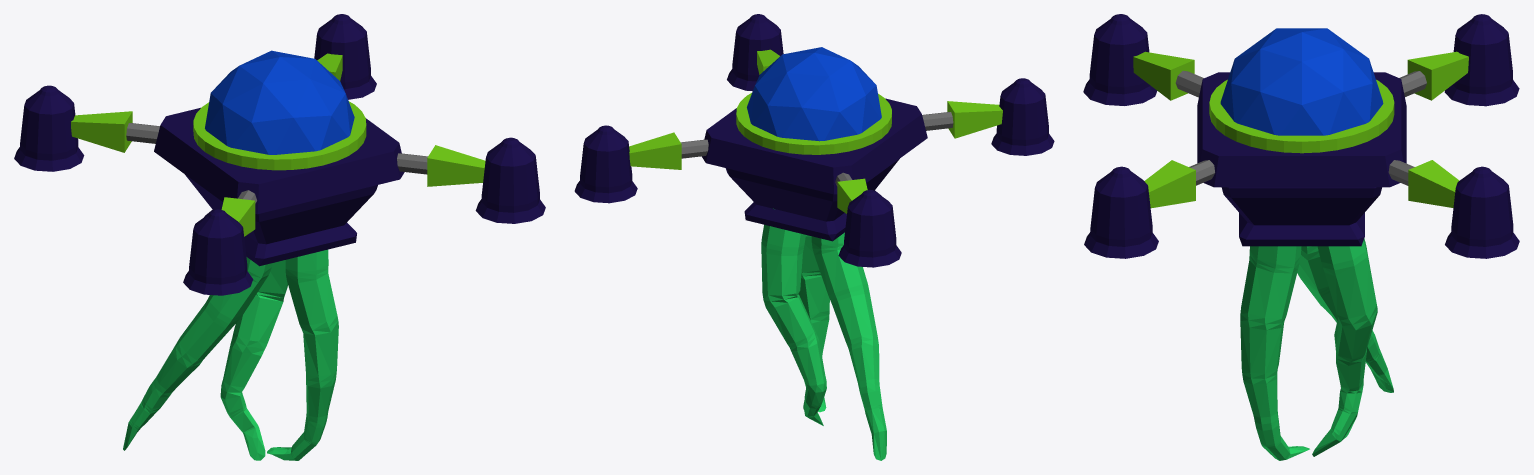
The model's file is jellyfishBoss_14.obj.
The picture shows the model from 3 angles, left to right: view 1: azimuth 30°, elevation 25°; view 2: azimuth 150°, elevation 25°; view 3: azimuth 270°, elevation 25°; orthographic projection. The views are drawn at different scales.
Parts seen in each view (by area): view 1: Base_Cube.001, Head_Icosphere, Cylinder.002_Cylinder.001, Cylinder.003_Cylinder.002, Cylinder.001_Cylinder.012, Rocket_1_Cylinder.003, Rocket_2_Cylinder.014, Rocket_3_Cylinder.016, Cylinder, Rocket_4_Cylinder.018, B_Arm_1_Cube.002, B_Arm_3_Cube.011 (+3 smaller); view 2: Base_Cube.001, Head_Icosphere, Cylinder.003_Cylinder.002, Cylinder.001_Cylinder.012, Rocket_3_Cylinder.016, Rocket_4_Cylinder.018, Rocket_2_Cylinder.014, Cylinder, Rocket_1_Cylinder.003, Cylinder.002_Cylinder.001, B_Arm_4_Cube.012, B_Arm_2_Cube.010 (+2 smaller); view 3: Base_Cube.001, Head_Icosphere, Cylinder.002_Cylinder.001, Cylinder.001_Cylinder.012, Rocket_1_Cylinder.003, Rocket_4_Cylinder.018, Rocket_3_Cylinder.016, Rocket_2_Cylinder.014, Cylinder, Cylinder.003_Cylinder.002, B_Arm_2_Cube.010, B_Arm_3_Cube.011 (+4 smaller).
Boxes of the visible parts, left/top/right/bottom form: Base_Cube.001: left=154, top=107, right=404, bottom=266; Head_Icosphere: left=205, top=50, right=354, bottom=154; Cylinder.002_Cylinder.001: left=267, top=249, right=338, bottom=460; Cylinder.003_Cylinder.002: left=123, top=257, right=272, bottom=450; Cylinder.001_Cylinder.012: left=220, top=260, right=287, bottom=460; Rocket_1_Cylinder.003: left=475, top=137, right=545, bottom=223; Rocket_2_Cylinder.014: left=183, top=209, right=253, bottom=295; Rocket_3_Cylinder.016: left=14, top=85, right=84, bottom=171; Cylinder: left=193, top=101, right=366, bottom=170; Rocket_4_Cylinder.018: left=314, top=14, right=376, bottom=99; B_Arm_1_Cube.002: left=427, top=145, right=485, bottom=186; B_Arm_3_Cube.011: left=71, top=111, right=132, bottom=152; Base_Cube.001: left=701, top=98, right=927, bottom=241; Head_Icosphere: left=747, top=47, right=881, bottom=141; Cylinder.003_Cylinder.002: left=811, top=232, right=886, bottom=460; Cylinder.001_Cylinder.012: left=761, top=208, right=826, bottom=425; Rocket_3_Cylinder.016: left=838, top=190, right=901, bottom=267; Rocket_4_Cylinder.018: left=574, top=125, right=637, bottom=203; Rocket_2_Cylinder.014: left=991, top=78, right=1054, bottom=155; Cylinder: left=736, top=93, right=891, bottom=154; Rocket_1_Cylinder.003: left=727, top=14, right=783, bottom=91; Cylinder.002_Cylinder.001: left=799, top=235, right=829, bottom=412; B_Arm_4_Cube.012: left=629, top=132, right=681, bottom=169; B_Arm_2_Cube.010: left=947, top=101, right=1002, bottom=138; Base_Cube.001: left=1197, top=72, right=1406, bottom=246; Head_Icosphere: left=1220, top=28, right=1383, bottom=135; Cylinder.002_Cylinder.001: left=1240, top=246, right=1309, bottom=460; Cylinder.001_Cylinder.012: left=1312, top=238, right=1377, bottom=456; Rocket_1_Cylinder.003: left=1084, top=166, right=1158, bottom=258; Rocket_4_Cylinder.018: left=1445, top=166, right=1519, bottom=258; Rocket_3_Cylinder.016: left=1444, top=14, right=1519, bottom=106; Rocket_2_Cylinder.014: left=1083, top=14, right=1156, bottom=105; Cylinder: left=1209, top=79, right=1394, bottom=153; Cylinder.003_Cylinder.002: left=1297, top=246, right=1393, bottom=392; B_Arm_2_Cube.010: left=1133, top=51, right=1194, bottom=100; B_Arm_3_Cube.011: left=1407, top=51, right=1468, bottom=100.
Bounding box in the file's own units: 14.77 × 16.13 × 14.77.
